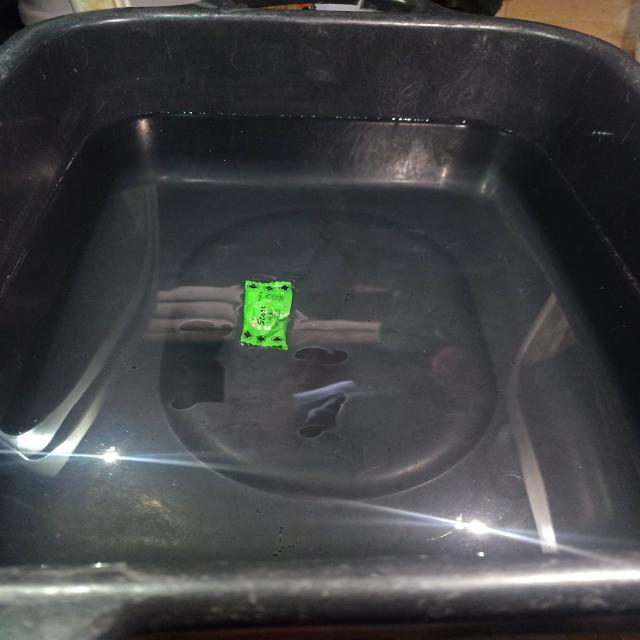Plastic Wrapper: (240, 280, 292, 350)
